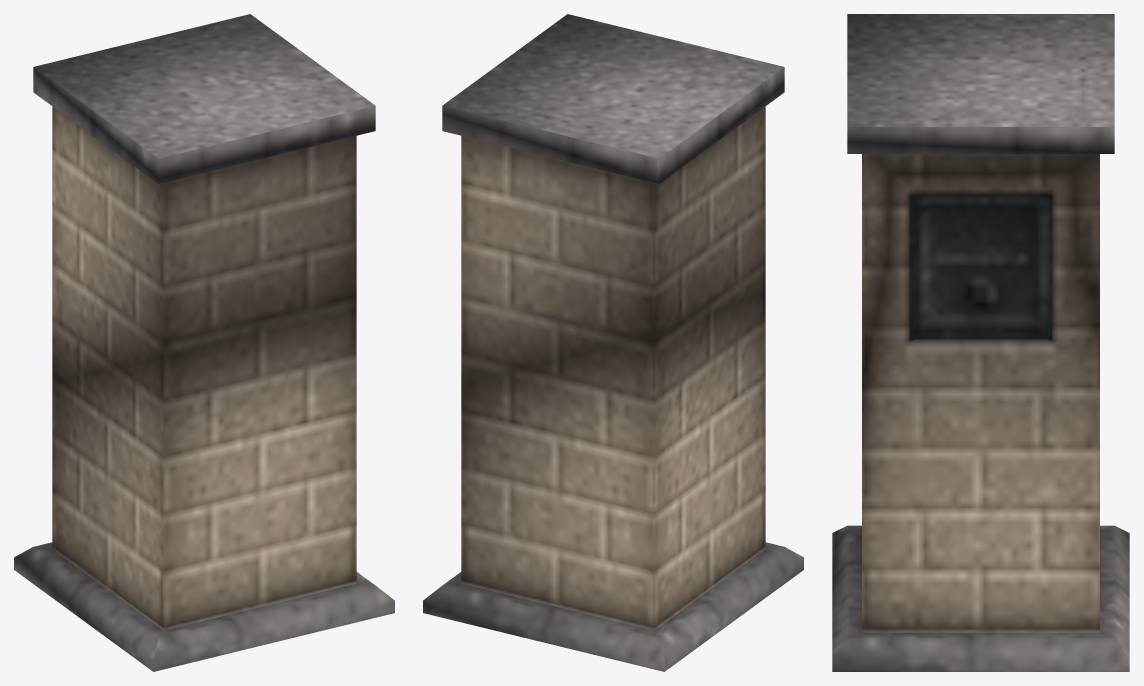
Rendered from RESMBOX.obj.
The picture shows the model from 3 angles, left to right: view 1: azimuth 30°, elevation 25°; view 2: azimuth 150°, elevation 25°; view 3: azimuth 270°, elevation 25°; orthographic projection. The views are drawn at different scales.
Visible parts, largest first — view 1: Cube.001; view 2: Cube.001; view 3: Cube.001.
Boxes of the visible parts, x1,y1,x2,y2 form: Cube.001: [14, 14, 394, 671]; Cube.001: [423, 14, 803, 671]; Cube.001: [832, 14, 1129, 671].
Bounding box in the file's own units: 20 × 40 × 20.
